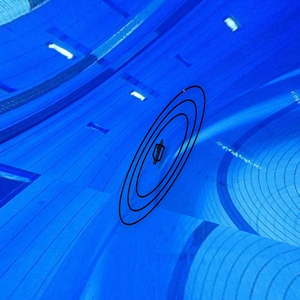circle: (118, 82, 209, 231)
submarine: (151, 137, 169, 169)
